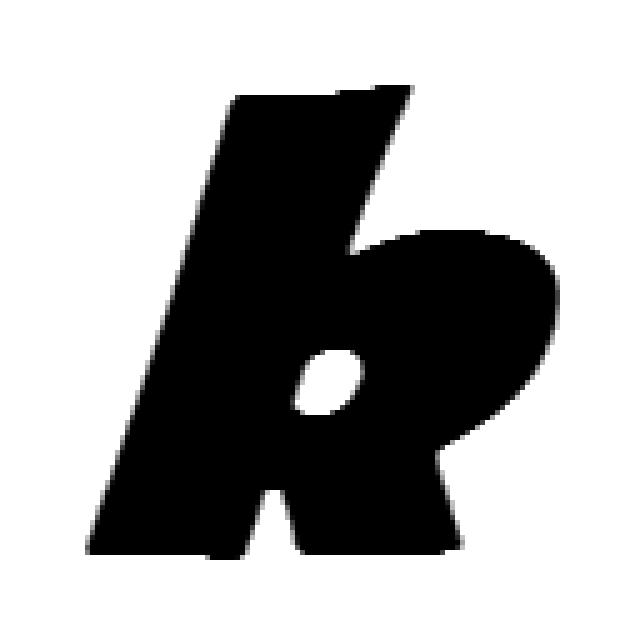K: (80, 75, 565, 565)
